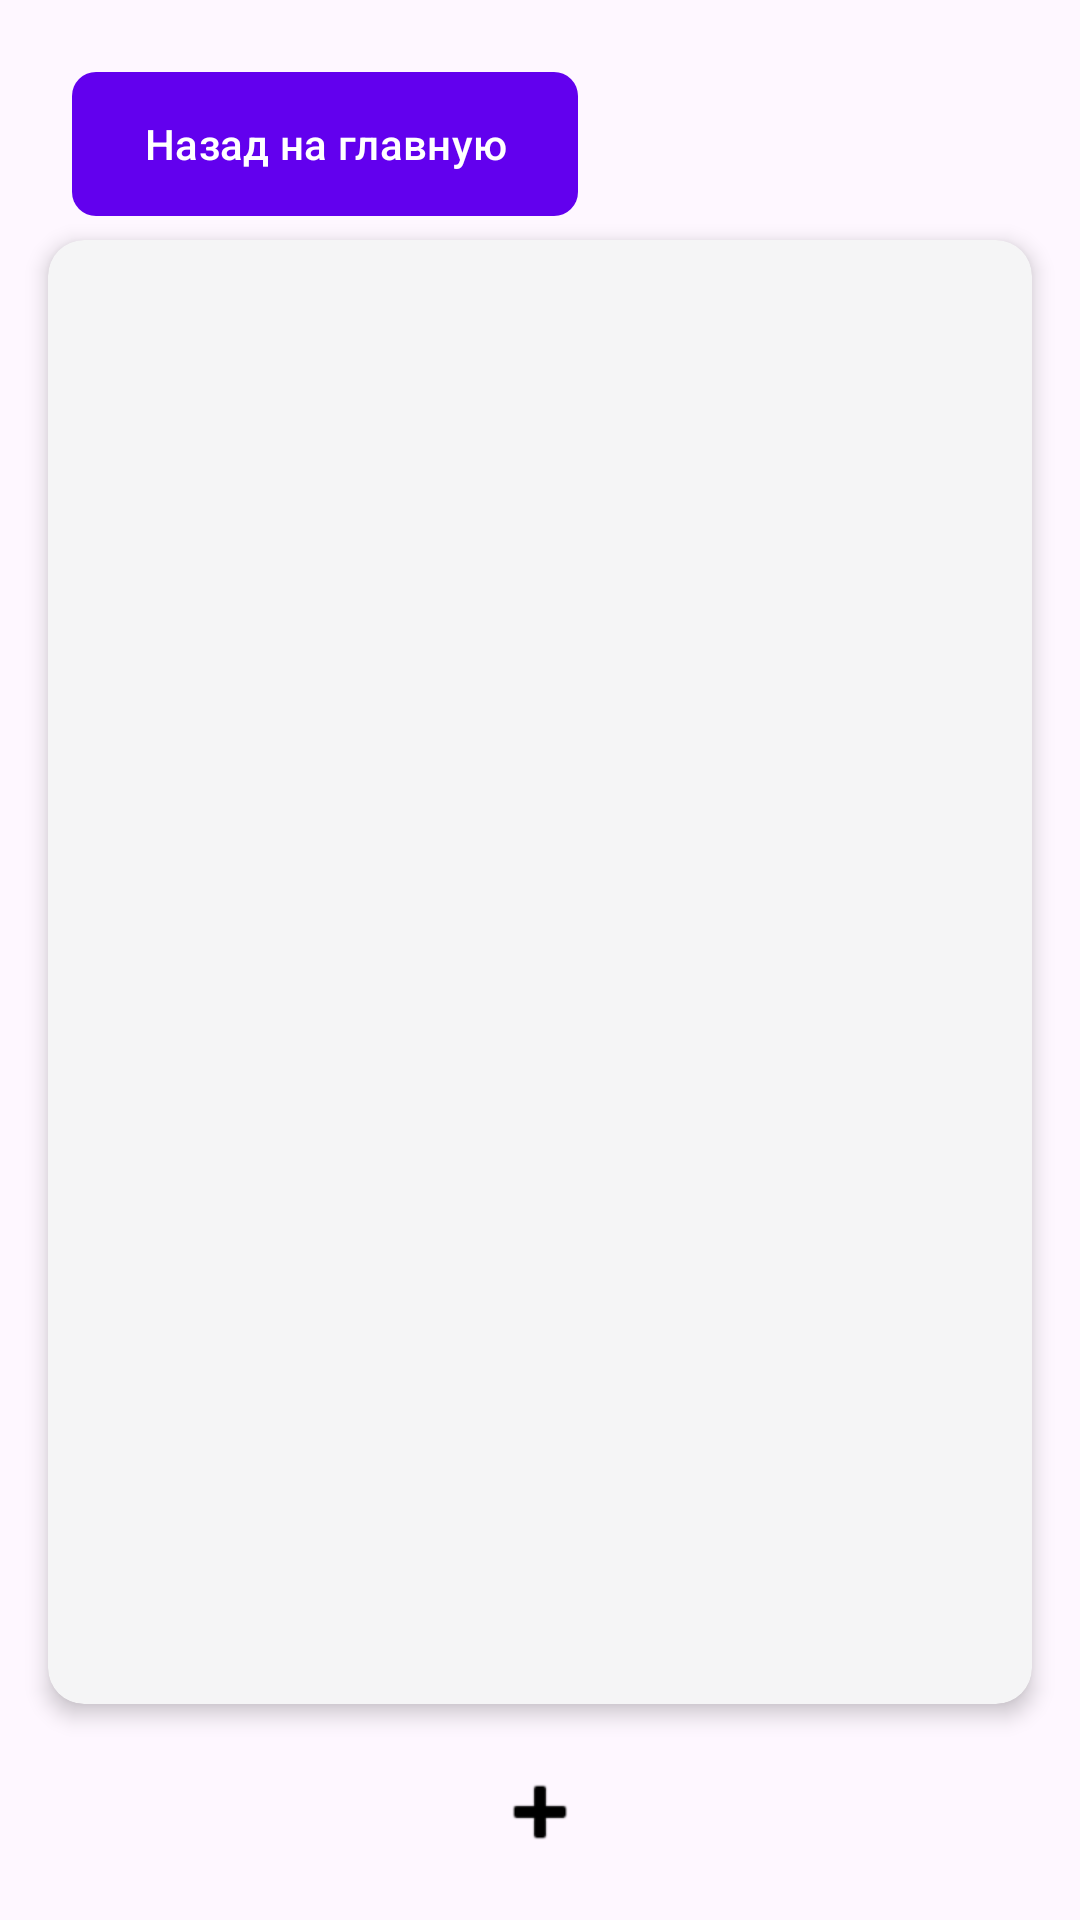

Icon click points for this 1080 x 1920 phone screenshot, format (x,y):
Add Page: (540,1812)
